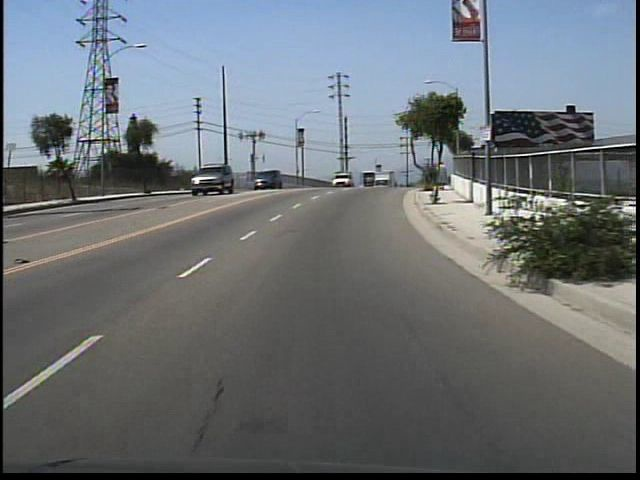person: (440, 161, 449, 193)
